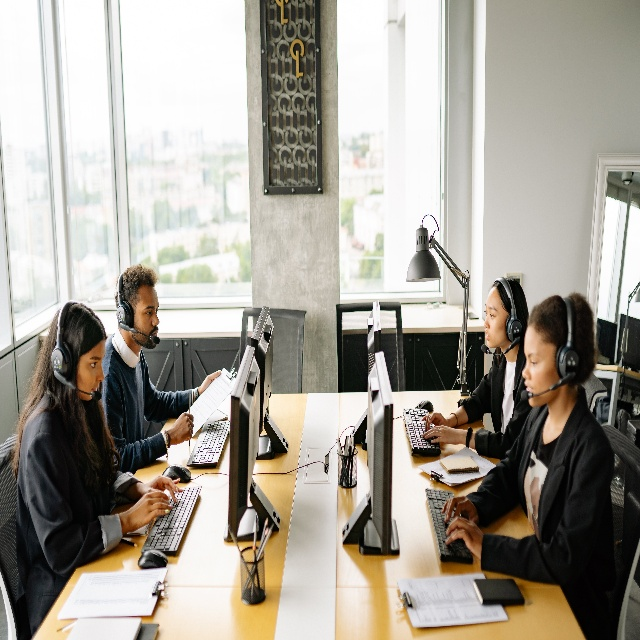Sin_guantes: (126, 490, 174, 529), (444, 519, 485, 558), (140, 474, 183, 506), (441, 495, 481, 525), (422, 426, 466, 444), (170, 413, 194, 443), (420, 408, 454, 429), (198, 368, 221, 391)
